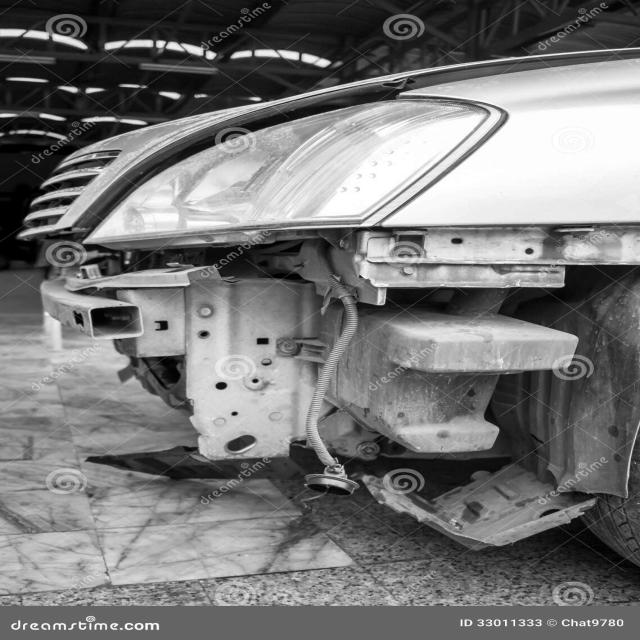misalignment: (72, 47, 640, 236)
missing: (43, 221, 640, 550)
